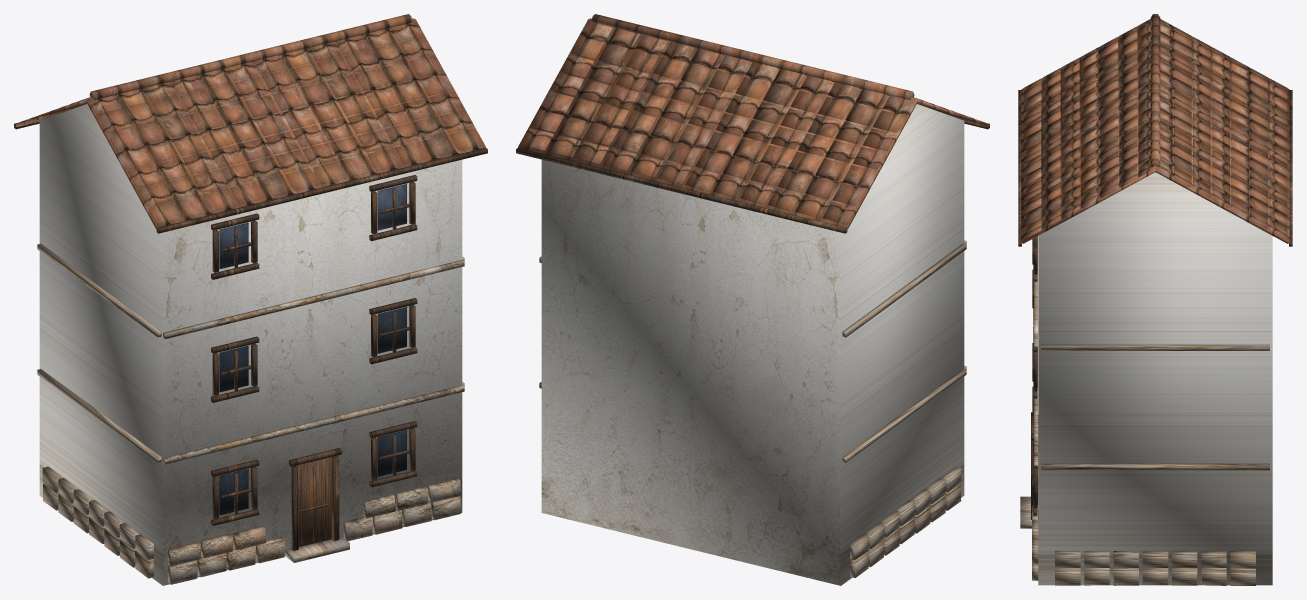
File: house-peru-02.glb
3 views of the same model, side by side, from view 1: azimuth 30°, elevation 25°; view 2: azimuth 150°, elevation 25°; view 3: azimuth 270°, elevation 25° (orthographic). The views are drawn at different scales.
Visible parts, largest first — view 1: House_Walls_White, House_Roof, House_Stone, House_Wood, House_Windows; view 2: House_Walls_White, House_Roof, House_Stone, House_Wood; view 3: House_Walls_White, House_Roof, House_Stone, House_Wood.
Part boxes in pixels (box(x1,y1,x2,y2)): House_Walls_White: box(39, 104, 462, 585); House_Roof: box(16, 14, 485, 229); House_Stone: box(37, 243, 464, 584); House_Wood: box(14, 121, 487, 550); House_Windows: box(219, 184, 406, 515); House_Walls_White: box(541, 104, 964, 585); House_Roof: box(518, 14, 987, 229); House_Stone: box(539, 240, 966, 577); House_Wood: box(516, 121, 989, 233); House_Walls_White: box(1038, 172, 1272, 585); House_Roof: box(1021, 14, 1289, 243); House_Stone: box(1020, 236, 1269, 585); House_Wood: box(1018, 90, 1292, 519).
Bounding box in the file's own units: 7.7 × 10.07 × 5.84.
5 materials, 5 textured.
